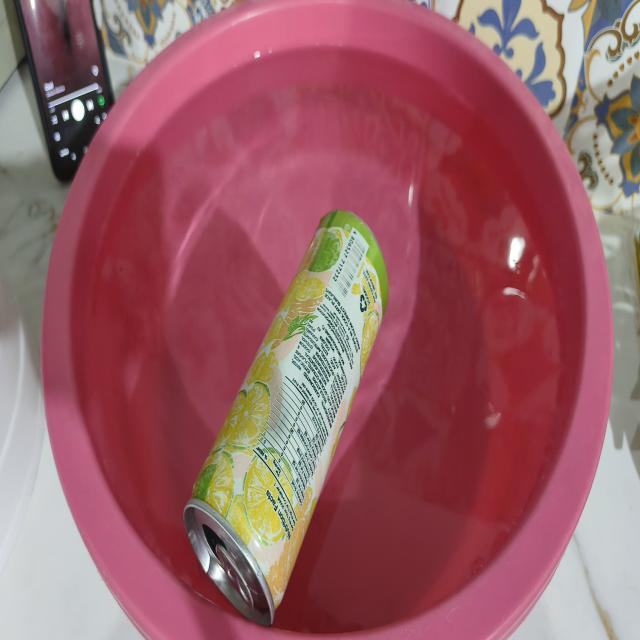Aluminum Can: (183, 210, 389, 624)
